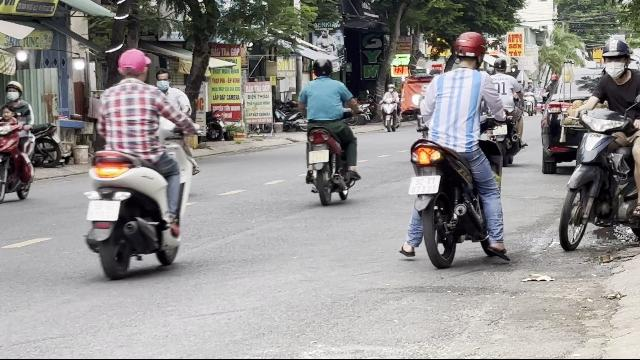helmet: (450, 30, 488, 68), (600, 36, 632, 74), (310, 54, 332, 78), (4, 80, 22, 102)
licenseplate: (88, 200, 118, 220), (408, 175, 439, 194), (310, 150, 330, 164)
motorcyclist: (80, 47, 198, 278), (402, 32, 512, 268), (555, 34, 639, 252), (297, 55, 361, 205), (0, 80, 36, 204)
nohelmet: (115, 48, 152, 82), (2, 104, 16, 124)
